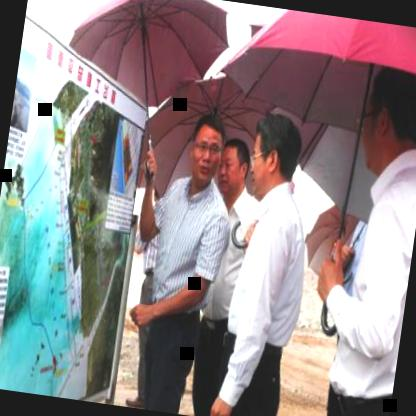head: (354, 41, 416, 173), (243, 107, 305, 204), (212, 126, 254, 204), (186, 115, 228, 188)
